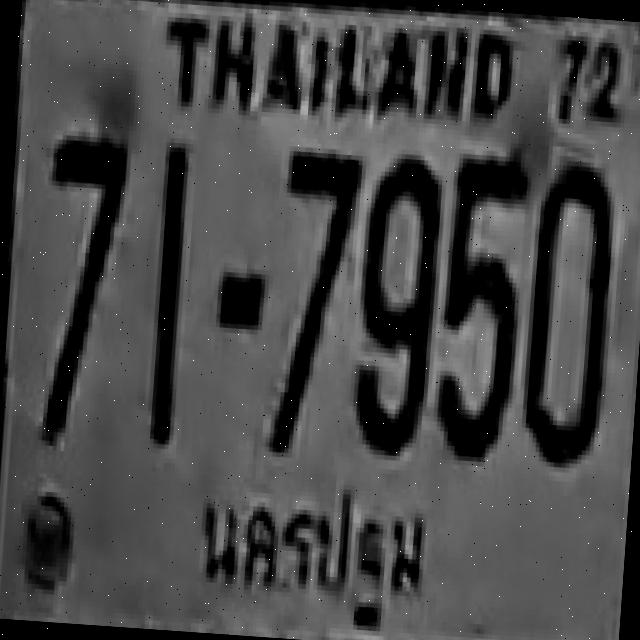1: (148, 142, 190, 366)
7: (272, 146, 362, 346), (40, 132, 130, 318)
9: (346, 156, 440, 452), (346, 190, 437, 454), (346, 216, 436, 453)
NakhonPathom: (174, 458, 455, 636)
